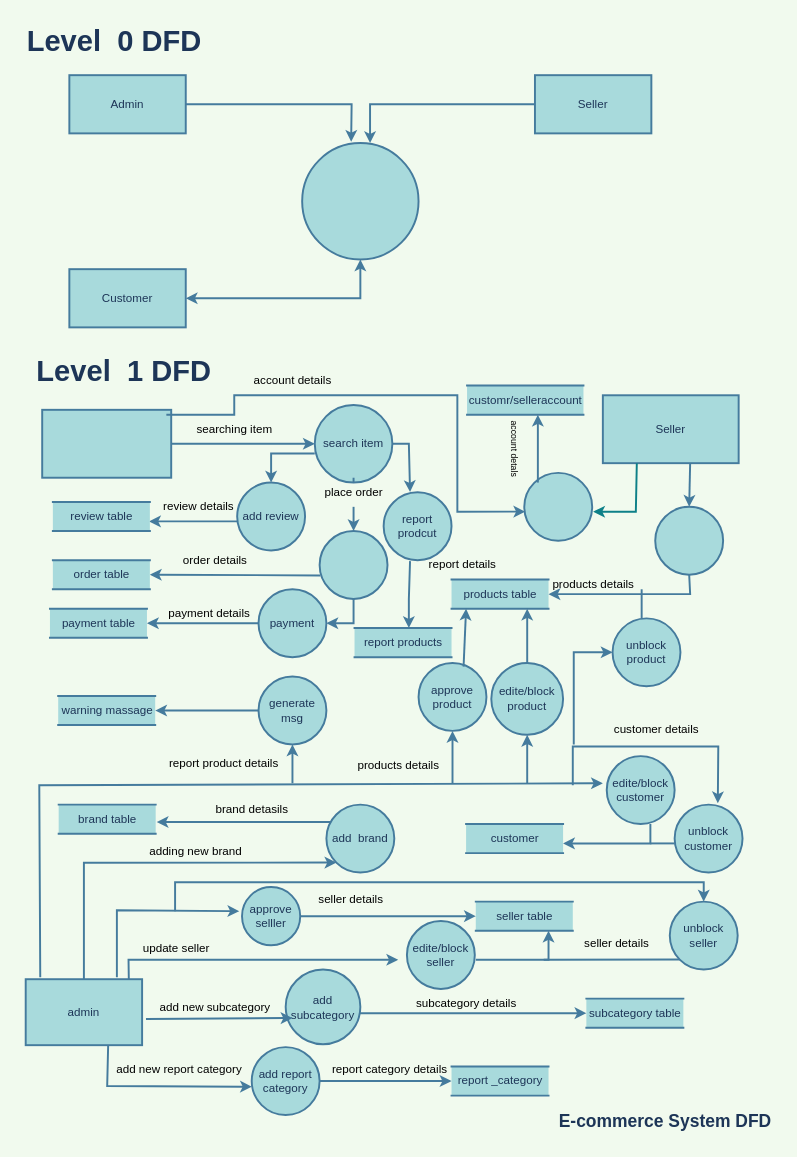
This 797x1157 diagram has some shape labels left out. The centre of each missing label's shape, as x and y in pixels:
add/edit prodcut: (x=689, y=540)
custmer: (x=106, y=443)
E-commerce System: (x=360, y=201)
open account: (x=558, y=506)
place an order: (x=353, y=564)
